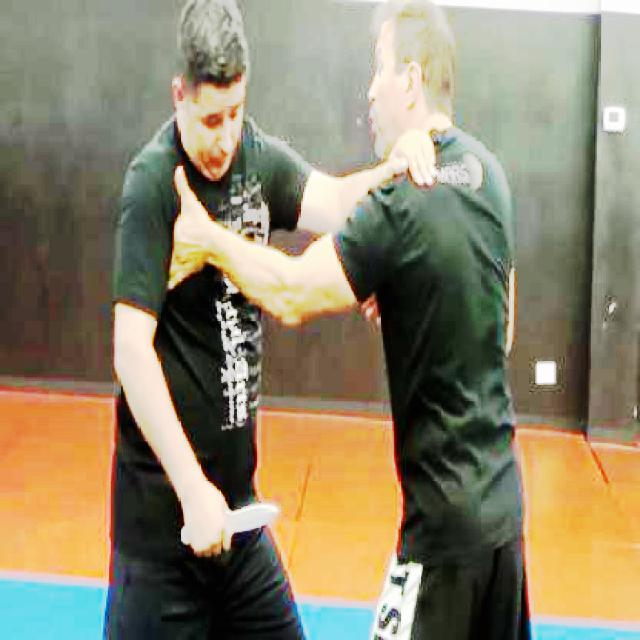Knife: (177, 501, 290, 554)
